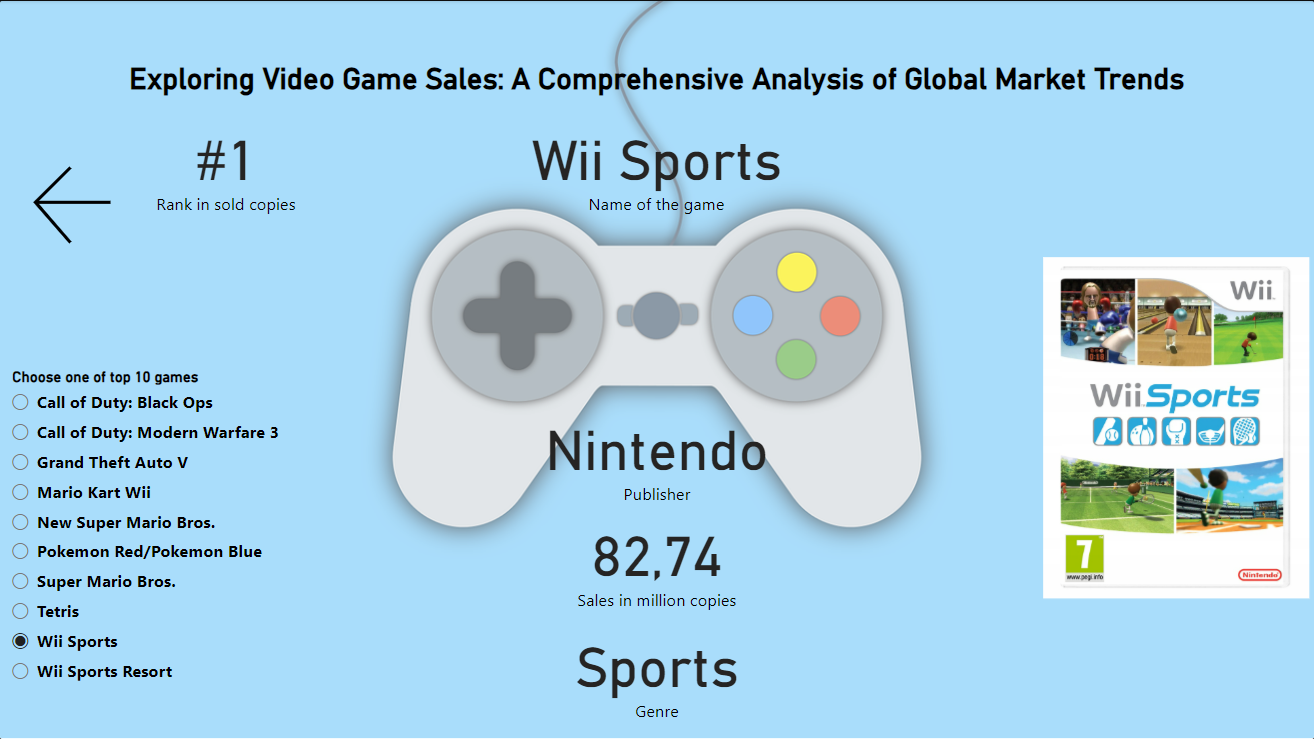

The page's visual inventory and layout, read from the dashboard file:
{"tool":"powerbi","page":{"name":"Page 4","canvas":[1280,720],"ordinal":3},"visuals":[{"type":"textbox","box":[108.9,54.5,1062.1,44.7],"z":0},{"type":"actionButton","box":[26.3,153.7,108.9,91.4],"z":1000},{"type":"simpleImageEBC4593F96F1425FB3D84C5BF02B5075","fields":{"imageURL":["Sheet1.Column2"]},"box":[1010.6,245.1,269.4,474.7],"z":2000},{"type":"slicer","fields":{"Values":["Sheet1.Column1"]},"box":[0,353.1,440.6,338.5],"z":3000},{"type":"card","fields":{"Values":["Min(gry top20bestsales.Name)"]},"box":[263.6,99.2,751.9,120.6],"z":4000},{"type":"card","fields":{"Values":["Sum(gry top20bestsales.sum(Global_Sales))"]},"box":[447.4,463,385.2,164.4],"z":5000},{"type":"card","fields":{"Values":["Min(gry vgsales.Genre)"]},"box":[436.7,586.5,406.6,133.3],"z":6000},{"type":"card","fields":{"Values":["Min(gry vgsales.Publisher)"]},"box":[349.2,359.9,581.6,164.4],"z":7000},{"type":"card","fields":{"Values":["Min(gry top20bestsales.Custom)"]},"box":[146.9,99.2,147.8,120.6],"z":8000}]}

Visuals, with their boxes in screenshot pixels (x1, y1, x2, y2), scaled from the page's 1280x720 canvas onto the 1314x739 screenshot:
textbox: locate(112, 56, 1202, 102)
actionButton: locate(27, 158, 139, 252)
simpleImageEBC4593F96F1425FB3D84C5BF02B5075 - Sheet1.Column2: locate(1037, 252, 1313, 738)
slicer - Sheet1.Column1: locate(0, 362, 452, 710)
card - Min(gry top20bestsales.Name): locate(271, 102, 1042, 226)
card - Sum(gry top20bestsales.sum(Global_Sales)): locate(459, 475, 855, 644)
card - Min(gry vgsales.Genre): locate(448, 602, 866, 738)
card - Min(gry vgsales.Publisher): locate(358, 369, 956, 538)
card - Min(gry top20bestsales.Custom): locate(151, 102, 303, 226)
